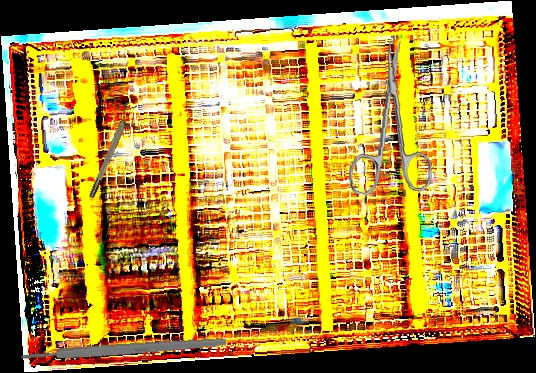Fixation Ring: (83, 99, 138, 200)
Iris Scissors: (348, 38, 439, 199)
Scalpel Handle: (20, 335, 227, 363)
